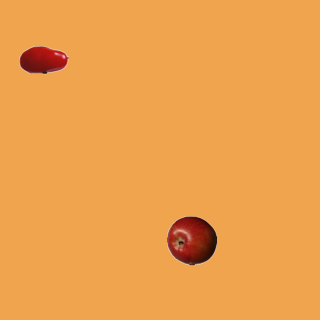Apple Braeburn: (166, 215, 216, 265)
Tomato 2: (18, 34, 68, 84)
